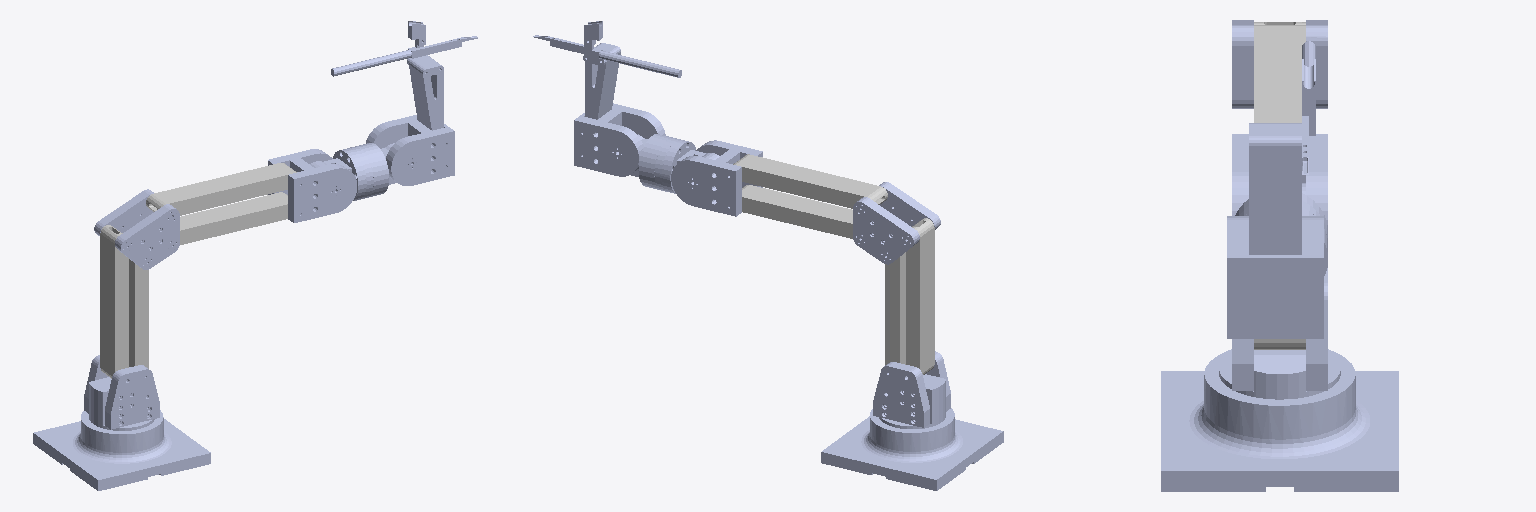
robot.urdf — arm_v2_description:
<?xml version="1.0" encoding="utf-8"?>
<!-- This URDF was automatically created by SolidWorks to URDF Exporter! Originally created by Stephen Brawner (brawner@gmail.com) 
     Commit Version: 1.6.0-4-g7f85cfe  Build Version: 1.6.7995.38578
     For more information, please see http://wiki.ros.org/sw_urdf_exporter -->
<robot
  name="arm_v2_description">
  <link
    name="base_link">
    <inertial>
      <origin
        xyz="1.54684458207296E-17 1.33749962353521E-17 0.0106432976711327"
        rpy="0 0 0" />
      <mass
        value="0.485324616622544"/>
      <inertia
        ixx="0.000983593189232418"
        ixy="9.92192563448707E-20"
        ixz="3.66091038164887E-20"
        iyy="0.000983593189232418"
        iyz="2.72686335947338E-20"
        izz="0.00182829474382764" />
    </inertial>
    <visual>
      <origin
        xyz="0 0 0"
        rpy="0 0 0"/>
      <geometry>
        <mesh
          filename="package://arm_v2_description/meshes/base_link.STL" />
      </geometry>
      <material
        name="">
        <color
          rgba="0.792156862745098 0.819607843137255 0.933333333333333 1" />
      </material>
    </visual>
    <collision>
      <origin
        xyz="0 0 0"
        rpy="0 0 0" />
      <geometry>
        <mesh
          filename="package://arm_v2_description/meshes/base_link.STL" />
      </geometry>
    </collision>
  </link>
  <link
    name="low_link_1">
    <inertial>
      <origin
        xyz="-0.00216127407243594 -2.55597707139429E-09 0.0619021996213665"
        rpy="0 0 0" />
      <mass
        value="0.331748728549887" />
      <inertia
        ixx="0.000222513336706059"
        ixy="7.06673152971397E-11"
        ixz="2.2773656482742E-05"
        iyy="0.000293275789814223"
        iyz="1.14271346819044E-11"
        izz="0.000227891108518889" />
    </inertial>
    <visual>
      <origin
        xyz="0 0 0"
        rpy="0 0 0" />
      <geometry>
        <mesh
          filename="package://arm_v2_description/meshes/low_link_1.STL" />
      </geometry>
      <material
        name="">
        <color
          rgba="0.792156862745098 0.819607843137255 0.933333333333333 1" />
      </material>
    </visual>
    <collision>
      <origin
        xyz="0 0 0"
        rpy="0 0 0" />
      <geometry>
        <mesh
          filename="package://arm_v2_description/meshes/low_link_1.STL" />
      </geometry>
    </collision>
  </link>
  <joint
    name="base_joint"
    type="continuous">
    <origin
      xyz="0 0 0"
      rpy="0 0 0" />
    <parent
      link="base_link" />
    <child
      link="low_link_1" />
    <axis
      xyz="0 0 1" />
    <limit
      lower="-3.1416"
      upper="3.1416"
      effort="0"
      velocity="0" />
  </joint>
  <link
    name="low_link_2">
    <inertial>
      <origin
        xyz="-1.17961196366423E-16 -0.0324999999999992 0.0909999946980245"
        rpy="0 0 0" />
      <mass
        value="0.110507990252836" />
      <inertia
        ixx="0.000352705009978739"
        ixy="-2.51195392602786E-13"
        ixz="-1.11095495705584E-12"
        iyy="0.00034441807987338"
        iyz="6.97125551308556E-21"
        izz="1.70763527628551E-05" />
    </inertial>
    <visual>
      <origin
        xyz="0 0 0"
        rpy="0 0 0" />
      <geometry>
        <mesh
          filename="package://arm_v2_description/meshes/low_link_2.STL" />
      </geometry>
      <material
        name="">
        <color
          rgba="0.850980392156863 0.850980392156863 0.850980392156863 1" />
      </material>
    </visual>
    <collision>
      <origin
        xyz="0 0 0"
        rpy="0 0 0" />
      <geometry>
        <mesh
          filename="package://arm_v2_description/meshes/low_link_2.STL" />
      </geometry>
    </collision>
  </link>
  <joint
    name="low_joint_A"
    type="revolute">
    <origin
      xyz="0.0175 0.0325 0.083"
      rpy="0 0 0" />
    <parent
      link="low_link_1" />
    <child
      link="low_link_2" />
    <axis
      xyz="0 1 0" />
    <limit
      lower="-3.1416"
      upper="3.1416"
      effort="0"
      velocity="0" />
  </joint>
  <link
    name="low_link_4">
    <inertial>
      <origin
        xyz="0.00962110681621155 -0.0325 0.0267725934392554"
        rpy="0 0 0" />
      <mass
        value="0.121253793382564" />
      <inertia
        ixx="3.6960102936586E-05"
        ixy="1.8772864001891E-21"
        ixz="-9.69924813425358E-06"
        iyy="8.87901604619433E-05"
        iyz="-3.345945577777E-22"
        izz="5.63585992050934E-05" />
    </inertial>
    <visual>
      <origin
        xyz="0 0 0"
        rpy="0 0 0" />
      <geometry>
        <mesh
          filename="package://arm_v2_description/meshes/low_link_4.STL" />
      </geometry>
      <material
        name="">
        <color
          rgba="0.792156862745098 0.819607843137255 0.933333333333333 1" />
      </material>
    </visual>
    <collision>
      <origin
        xyz="0 0 0"
        rpy="0 0 0" />
      <geometry>
        <mesh
          filename="package://arm_v2_description/meshes/low_link_4.STL" />
      </geometry>
    </collision>
  </link>
  <joint
    name="low_joint_C"
    type="revolute">
    <origin
      xyz="0 0 0.182"
      rpy="0 0 0" />
    <parent
      link="low_link_2" />
    <child
      link="low_link_4" />
    <axis
      xyz="0 1 0" />
    <limit
      lower="-3.1416"
      upper="3.1416"
      effort="0"
      velocity="0" />
    <mimic
      joint="low_joint_A"
      multiplier="-1"
      offset="0" />
  </joint>
  <link
    name="high_link_2">
    <inertial>
      <origin
        xyz="0.0909999946980258 -0.0325000000000001 -8.88178419700125E-16"
        rpy="0 0 0" />
      <mass
        value="0.110507990252836" />
      <inertia
        ixx="1.70763527628551E-05"
        ixy="-4.48083084541976E-20"
        ixz="1.11095504075214E-12"
        iyy="0.00034441807987338"
        iyz="2.51195397421982E-13"
        izz="0.000352705009978739" />
    </inertial>
    <visual>
      <origin
        xyz="0 0 0"
        rpy="0 0 0" />
      <geometry>
        <mesh
          filename="package://arm_v2_description/meshes/high_link_2.STL" />
      </geometry>
      <material
        name="">
        <color
          rgba="0.850980392156863 0.850980392156863 0.850980392156863 1" />
      </material>
    </visual>
    <collision>
      <origin
        xyz="0 0 0"
        rpy="0 0 0" />
      <geometry>
        <mesh
          filename="package://arm_v2_description/meshes/high_link_2.STL" />
      </geometry>
    </collision>
  </link>
  <joint
    name="high_joint_A"
    type="revolute">
    <origin
      xyz="0.035355 0 0.014645"
      rpy="0 0 0" />
    <parent
      link="low_link_4" />
    <child
      link="high_link_2" />
    <axis
      xyz="0 -1 0" />
    <limit
      lower="-3.1416"
      upper="3.1416"
      effort="0"
      velocity="0" />
  </joint>
  <link
    name="high_link_4">
    <inertial>
      <origin
        xyz="0.0300863035652909 -0.0325 0.0200000000000004"
        rpy="0 0 0" />
      <mass
        value="0.175480660661564" />
      <inertia
        ixx="6.05047056603455E-05"
        ixy="-8.93619759353287E-20"
        ixz="-1.17623077313507E-19"
        iyy="0.000143534859572765"
        iyz="5.50293993977071E-20"
        izz="0.000103215341759094" />
    </inertial>
    <visual>
      <origin
        xyz="0 0 0"
        rpy="0 0 0" />
      <geometry>
        <mesh
          filename="package://arm_v2_description/meshes/high_link_4.STL" />
      </geometry>
      <material
        name="">
        <color
          rgba="0.792156862745098 0.819607843137255 0.933333333333333 1" />
      </material>
    </visual>
    <collision>
      <origin
        xyz="0 0 0"
        rpy="0 0 0" />
      <geometry>
        <mesh
          filename="package://arm_v2_description/meshes/high_link_4.STL" />
      </geometry>
    </collision>
  </link>
  <joint
    name="high_joint_C"
    type="revolute">
    <origin
      xyz="0.182 0 0"
      rpy="0 0 0" />
    <parent
      link="high_link_2" />
    <child
      link="high_link_4" />
    <axis
      xyz="0 1 0" />
    <limit
      lower="-3.1416"
      upper="3.1416"
      effort="0"
      velocity="0" />
    <mimic
      joint="high_joint_A"
      multiplier="1"
      offset="0" />
  </joint>
  <link
    name="wrist_link_1">
    <inertial>
      <origin
        xyz="0.0288597903243406 -0.0325000000000001 -8.32667268468867E-15"
        rpy="0 0 0" />
      <mass
        value="0.132446543816184" />
      <inertia
        ixx="5.39586231779543E-05"
        ixy="-5.00578254357345E-21"
        ixz="-2.41420833353202E-19"
        iyy="5.99244035497373E-05"
        iyz="6.55928376360493E-22"
        izz="5.99485243200493E-05" />
    </inertial>
    <visual>
      <origin
        xyz="0 0 0"
        rpy="0 0 0" />
      <geometry>
        <mesh
          filename="package://arm_v2_description/meshes/wrist_link_1.STL" />
      </geometry>
      <material
        name="">
        <color
          rgba="0.792156862745098 0.819607843137255 0.933333333333333 1" />
      </material>
    </visual>
    <collision>
      <origin
        xyz="0 0 0"
        rpy="0 0 0" />
      <geometry>
        <mesh
          filename="package://arm_v2_description/meshes/wrist_link_1.STL" />
      </geometry>
    </collision>
  </link>
  <joint
    name="wrist_joint_1"
    type="revolute">
    <origin
      xyz="0.05 0 0.02"
      rpy="0 0 0" />
    <parent
      link="high_link_4" />
    <child
      link="wrist_link_1" />
    <axis
      xyz="0 1 0" />
    <limit
      lower="-3.1416"
      upper="3.1416"
      effort="0"
      velocity="0" />
  </joint>
  <link
    name="wrist_link_2">
    <inertial>
      <origin
        xyz="0.0413433295596581 -3.38124027754054E-18 -3.33066907387547E-16"
        rpy="0 0 0" />
      <mass
        value="0.110570086754039" />
      <inertia
        ixx="4.35735393679915E-05"
        ixy="5.66933751140274E-21"
        ixz="6.52188172332341E-20"
        iyy="6.5472700546997E-05"
        iyz="-5.66414751723181E-22"
        izz="6.52299662450051E-05" />
    </inertial>
    <visual>
      <origin
        xyz="0 0 0"
        rpy="0 0 0" />
      <geometry>
        <mesh
          filename="package://arm_v2_description/meshes/wrist_link_2.STL" />
      </geometry>
      <material
        name="">
        <color
          rgba="0.792156862745098 0.819607843137255 0.933333333333333 1" />
      </material>
    </visual>
    <collision>
      <origin
        xyz="0 0 0"
        rpy="0 0 0" />
      <geometry>
        <mesh
          filename="package://arm_v2_description/meshes/wrist_link_2.STL" />
      </geometry>
    </collision>
  </link>
  <joint
    name="wrist_joint_2"
    type="continuous">
    <origin
      xyz="0.043 -0.0325 0"
      rpy="0 0 0" />
    <parent
      link="wrist_link_1" />
    <child
      link="wrist_link_2" />
    <axis
      xyz="1 0 0" />
    <limit
      lower="-3.1416"
      upper="3.1416"
      effort="0"
      velocity="0" />
  </joint>
  <link
    name="wrist_link_3">
    <inertial>
      <origin
        xyz="0.0255430098672023 -0.0267190168700954 0.0181515674579176"
        rpy="0 0 0" />
      <mass
        value="0.297698869950329" />
      <inertia
        ixx="0.000183860157167126"
        ixy="8.06121376547965E-07"
        ixz="9.37483085406243E-06"
        iyy="0.000327159951719634"
        iyz="-1.33960976798099E-07"
        izz="0.000181373534168027" />
    </inertial>
    <visual>
      <origin
        xyz="0 0 0"
        rpy="0 0 0" />
      <geometry>
        <mesh
          filename="package://arm_v2_description/meshes/wrist_link_3.STL" />
      </geometry>
      <material
        name="">
        <color
          rgba="0.792156862745098 0.819607843137255 0.933333333333333 1" />
      </material>
    </visual>
    <collision>
      <origin
        xyz="0 0 0"
        rpy="0 0 0" />
      <geometry>
        <mesh
          filename="package://arm_v2_description/meshes/wrist_link_3.STL" />
      </geometry>
    </collision>
  </link>
  <joint
    name="wrist_joint_3"
    type="revolute">
    <origin
      xyz="0.0631 0.029478 0.013686"
      rpy="0 0 0" />
    <parent
      link="wrist_link_2" />
    <child
      link="wrist_link_3" />
    <axis
      xyz="0 1 0" />
    <limit
      lower="-3.1416"
      upper="3.1416"
      effort="0"
      velocity="0" />
  </joint>
  <link
    name="tip_link">
    <inertial>
      <origin
        xyz="-0.00250000000000933 -1.03116137532602E-16 1.33226762955019E-14"
        rpy="0 0 0" />
      <mass
        value="0.0195" />
      <inertia
        ixx="1.2715625E-05"
        ixy="-3.46309420484919E-23"
        ixz="1.90899608409567E-38"
        iyy="5.89062500000002E-06"
        iyz="-2.58439464851749E-21"
        izz="6.90625000000001E-06" />
    </inertial>
    <visual>
      <origin
        xyz="0 0 0"
        rpy="0 0 0" />
      <geometry>
        <mesh
          filename="package://arm_v2_description/meshes/tip_link.STL" />
      </geometry>
      <material
        name="">
        <color
          rgba="0.792156862745098 0.819607843137255 0.933333333333333 1" />
      </material>
    </visual>
    <collision>
      <origin
        xyz="0 0 0"
        rpy="0 0 0" />
      <geometry>
        <mesh
          filename="package://arm_v2_description/meshes/tip_link.STL" />
      </geometry>
    </collision>
  </link>
  <joint
    name="tip_fixed_joint"
    type="fixed">
    <origin
      xyz="0.0600000000000021 -0.0324999999999982 0"
      rpy="0 0 0" />
    <parent
      link="wrist_link_3" />
    <child
      link="tip_link" />
    <axis
      xyz="0 0 0" />
  </joint>
  <link
    name="high_link_3">
    <inertial>
      <origin
        xyz="0.0910000053019717 -0.0175000000000007 1.11022302462516E-16"
        rpy="0 0 0" />
      <mass
        value="0.110507990252835" />
      <inertia
        ixx="1.70763527628551E-05"
        ixy="-3.1534639605071E-20"
        ixz="1.11095497032909E-12"
        iyy="0.000344418079873377"
        iyz="-2.51195409677674E-13"
        izz="0.000352705009978737" />
    </inertial>
    <visual>
      <origin
        xyz="0 0 0"
        rpy="0 0 0" />
      <geometry>
        <mesh
          filename="package://arm_v2_description/meshes/high_link_3.STL" />
      </geometry>
      <material
        name="">
        <color
          rgba="0.850980392156863 0.850980392156863 0.850980392156863 1" />
      </material>
    </visual>
    <collision>
      <origin
        xyz="0 0 0"
        rpy="0 0 0" />
      <geometry>
        <mesh
          filename="package://arm_v2_description/meshes/high_link_3.STL" />
      </geometry>
    </collision>
  </link>
  <joint
    name="high_joint_B"
    type="revolute">
    <origin
      xyz="0.035355 -0.015 0.054645"
      rpy="0 0 0" />
    <parent
      link="low_link_4" />
    <child
      link="high_link_3" />
    <axis
      xyz="0 -1 0" />
    <limit
      lower="-3.1416"
      upper="3.1416"
      effort="0"
      velocity="0" />
    <mimic
      joint="high_joint_A"
      multiplier="1"
      offset="0" />
  </joint>
  <link
    name="low_link_3">
    <inertial>
      <origin
        xyz="1.04083408558608E-17 -0.0325000000000005 0.0909999946980247"
        rpy="0 0 0" />
      <mass
        value="0.110507990252835" />
      <inertia
        ixx="0.000352705009978739"
        ixy="-2.51195392911515E-13"
        ixz="-1.11095494377249E-12"
        iyy="0.00034441807987338"
        iyz="-1.21039806702201E-20"
        izz="1.70763527628551E-05" />
    </inertial>
    <visual>
      <origin
        xyz="0 0 0"
        rpy="0 0 0" />
      <geometry>
        <mesh
          filename="package://arm_v2_description/meshes/low_link_3.STL" />
      </geometry>
      <material
        name="">
        <color
          rgba="0.850980392156863 0.850980392156863 0.850980392156863 1" />
      </material>
    </visual>
    <collision>
      <origin
        xyz="0 0 0"
        rpy="0 0 0" />
      <geometry>
        <mesh
          filename="package://arm_v2_description/meshes/low_link_3.STL" />
      </geometry>
    </collision>
  </link>
  <joint
    name="low_joint_B"
    type="revolute">
    <origin
      xyz="-0.010784 0.0325 0.11128"
      rpy="0 0 0" />
    <parent
      link="low_link_1" />
    <child
      link="low_link_3" />
    <axis
      xyz="0 1 0" />
    <limit
      lower="-3.1416"
      upper="3.1416"
      effort="0"
      velocity="0" />
    <mimic
      joint="low_joint_A"
      multiplier="1"
      offset="0" />
  </joint>
</robot>

--- Render facts (derived) ---
Views: 3 orthographic renders of the robot side by side, from view 1: azimuth 30°, elevation 25°; view 2: azimuth 150°, elevation 25°; view 3: azimuth 270°, elevation 25°.
Robot: arm_v2_description — 12 links, 11 joints (8 revolute, 2 continuous, 1 fixed); root link base_link; default pose: every joint at zero.
Links seen in each view (by area): view 1: base_link, wrist_link_3, low_link_1, high_link_4, low_link_3, low_link_4, high_link_3, high_link_2, low_link_2, wrist_link_1, wrist_link_2; view 2: base_link, wrist_link_3, low_link_1, high_link_4, low_link_4, low_link_3, high_link_3, high_link_2, low_link_2, wrist_link_1, wrist_link_2; view 3: base_link, wrist_link_3, low_link_1, tip_link, high_link_3, low_link_4, high_link_4, low_link_2.
Boxes of the visible links, left/top/right/bottom form: base_link: left=33, top=410, right=210, bottom=490; wrist_link_3: left=331, top=21, right=477, bottom=185; low_link_1: left=84, top=355, right=159, bottom=430; high_link_4: left=268, top=149, right=356, bottom=222; low_link_3: left=100, top=225, right=128, bottom=378; low_link_4: left=94, top=189, right=179, bottom=269; high_link_3: left=146, top=163, right=296, bottom=215; high_link_2: left=180, top=192, right=287, bottom=244; low_link_2: left=129, top=259, right=148, bottom=368; wrist_link_1: left=310, top=146, right=373, bottom=200; wrist_link_2: left=356, top=143, right=396, bottom=197; base_link: left=821, top=408, right=1003, bottom=490; wrist_link_3: left=533, top=21, right=681, bottom=176; low_link_1: left=873, top=351, right=950, bottom=428; high_link_4: left=671, top=140, right=762, bottom=216; low_link_4: left=853, top=182, right=940, bottom=264; low_link_3: left=906, top=218, right=934, bottom=374; high_link_3: left=733, top=154, right=887, bottom=208; high_link_2: left=742, top=185, right=852, bottom=238; low_link_2: left=885, top=252, right=905, bottom=364; wrist_link_1: left=654, top=138, right=719, bottom=193; wrist_link_2: left=631, top=134, right=672, bottom=189; base_link: left=1161, top=349, right=1398, bottom=491; wrist_link_3: left=1227, top=41, right=1323, bottom=338; low_link_1: left=1219, top=268, right=1340, bottom=399; tip_link: left=1227, top=255, right=1323, bottom=338; high_link_3: left=1254, top=25, right=1305, bottom=122; low_link_4: left=1232, top=20, right=1327, bottom=108; high_link_4: left=1232, top=134, right=1327, bottom=224; low_link_2: left=1254, top=339, right=1305, bottom=349.
Size in the robot's own frame: 0.5941 by 0.16 by 0.4793 metres.
Meshes: 12 distinct files referenced, 12 mesh visuals loaded (12 binary STL).
